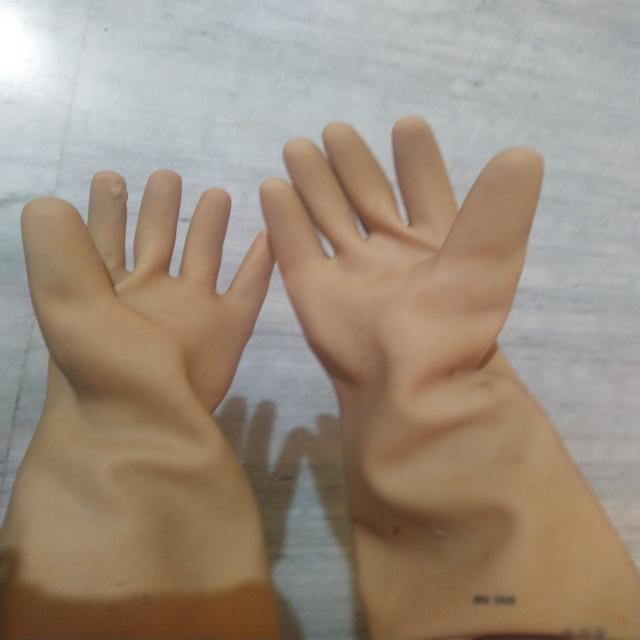glove_hand: (252, 110, 638, 640), (1, 167, 277, 640)
